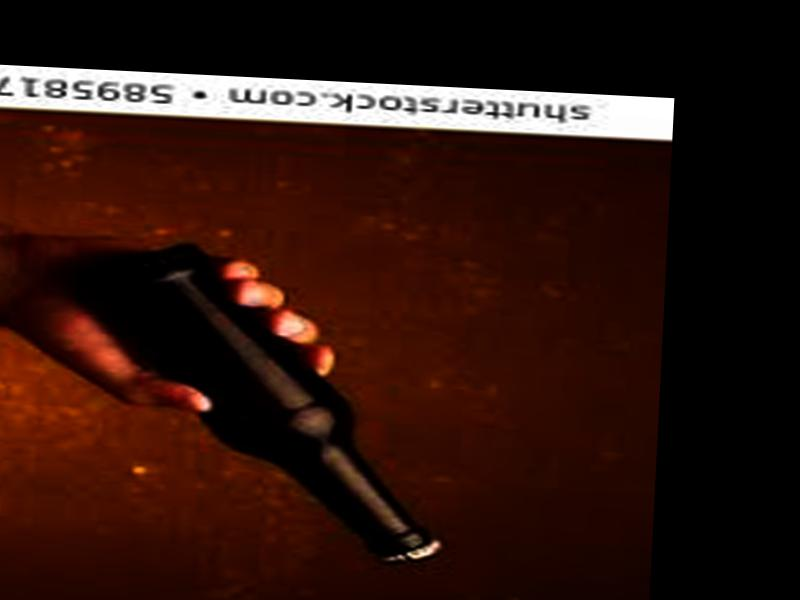Beer: (46, 237, 461, 567)
